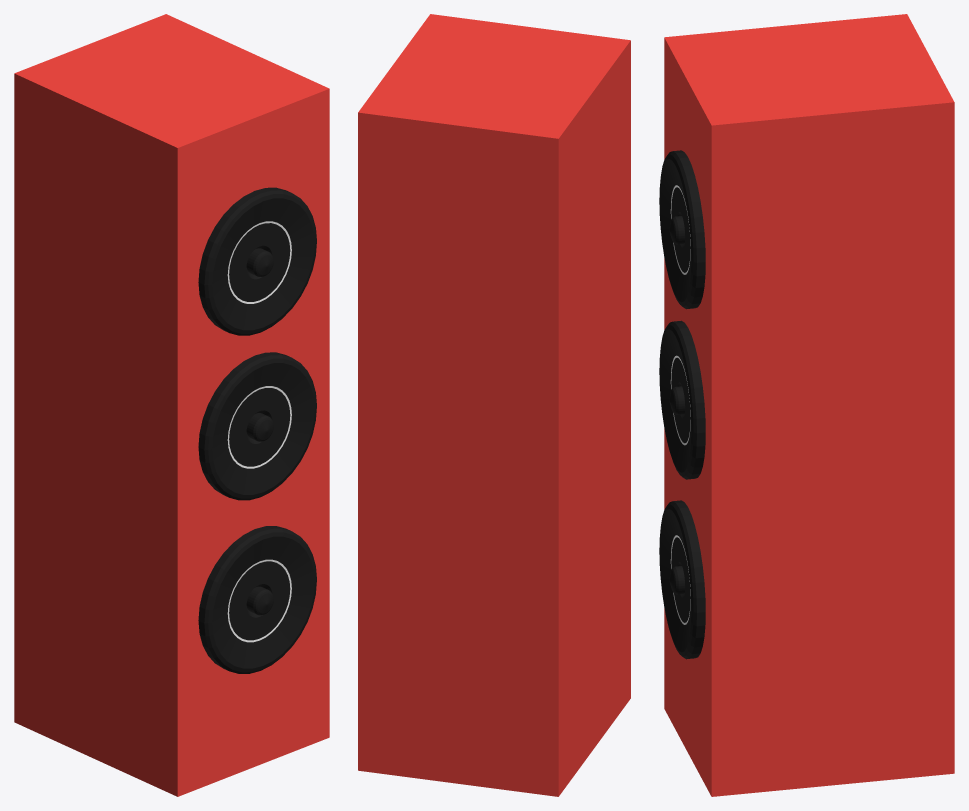
Rendered from speaker1.glb.
3 views of the same model, side by side, from view 1: azimuth 30°, elevation 25°; view 2: azimuth 150°, elevation 25°; view 3: azimuth 270°, elevation 25° (orthographic). The views are drawn at different scales.
Parts seen in each view (by area): view 1: bocina1.011; view 2: bocina1.011; view 3: bocina1.011.
Boxes of the visible parts, x1=… form: bocina1.011: x1=14, y1=14, x2=329, y2=796; bocina1.011: x1=358, y1=14, x2=630, y2=796; bocina1.011: x1=659, y1=14, x2=954, y2=796.
Bounding box in the file's own units: 3.5 × 9.82 × 3.91.
